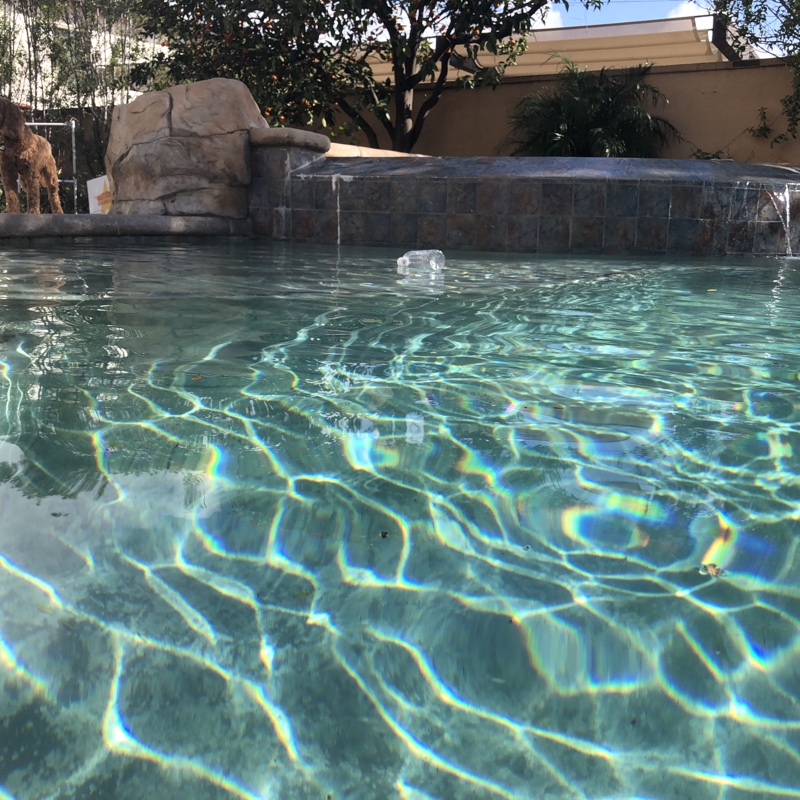Plastic Bottle: (393, 245, 449, 274)
